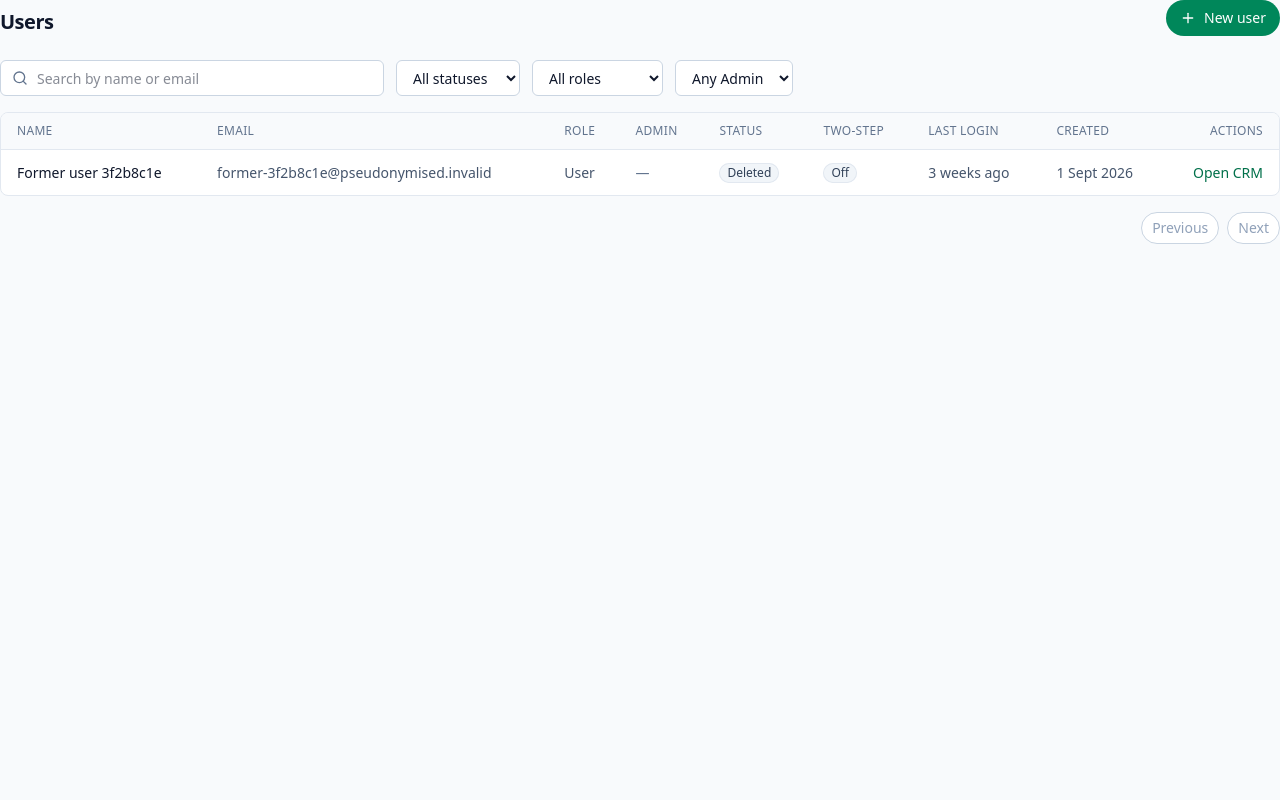
Test: who is offered Delete account › the details panel of a Former user says Deleted and offers nothing to do to the account
Click the button "Former user 3f2b8c1e".
click(89, 172)  # box [17,162,162,182]
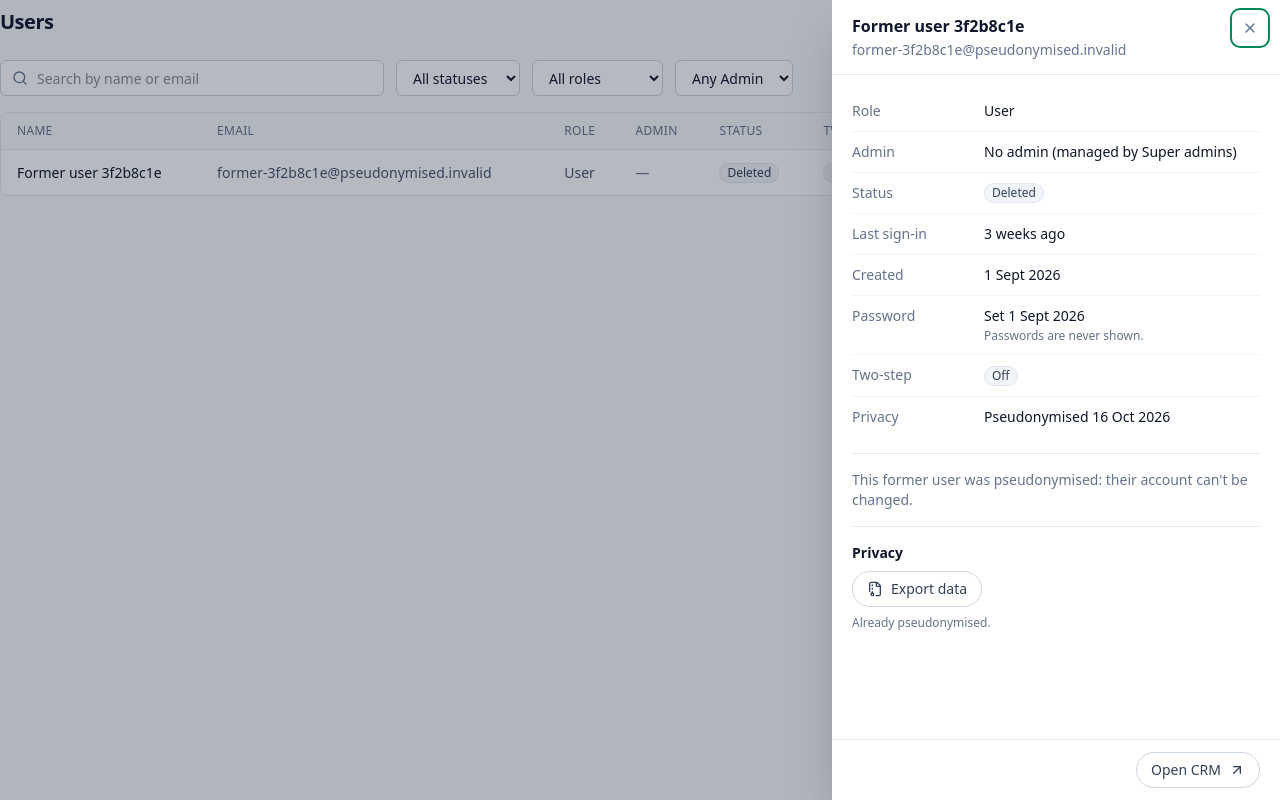
Expected: the element showing "Deleted" is shown, [984,183,1044,203]
Expected: the dialog "Former user 3f2b8c1e" shows "This former user was pseudonymised: their account can't be changed.", [852,470,1248,509]
